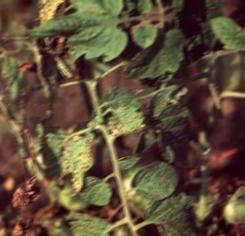Tomato Septoria leaf spot: (95, 80, 151, 140), (139, 86, 199, 137), (58, 131, 97, 193), (127, 161, 183, 202), (75, 175, 117, 209), (69, 212, 121, 236)
